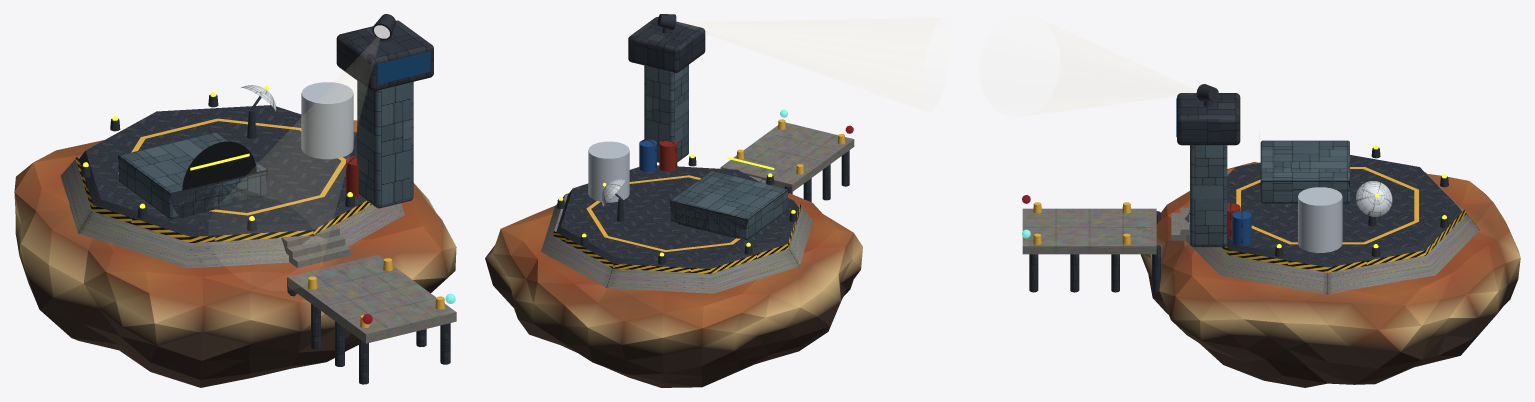
Rendered from garrison-L75.glb.
3 renders of one model, left to right at view 1: azimuth 30°, elevation 25°; view 2: azimuth 150°, elevation 25°; view 3: azimuth 270°, elevation 25°, orthographic. The views are drawn at different scales.
Parts seen in each view (by area): view 1: object 1, object 4, object 25, object 2, object 49, object 38, object 50, object 48, object 40, object 3, object 39, object 5 (+10 smaller); view 2: object 1, object 4, object 2, object 38, object 25, object 49, object 50, object 48, object 39, object 3, object 5, object 42 (+1 smaller); view 3: object 1, object 4, object 2, object 25, object 38, object 49, object 50, object 48, object 3, anim:rot, object 5, object 45.
Part boxes in pixels (box(x1,y1,x2,y2)): object 1: box(14, 120, 456, 387); object 4: box(79, 105, 366, 236); object 25: box(287, 255, 456, 343); object 2: box(60, 156, 404, 267); object 49: box(357, 81, 413, 208); object 38: box(118, 132, 267, 219); object 50: box(336, 20, 433, 91); object 48: box(301, 82, 353, 159); object 40: box(182, 141, 256, 190); object 3: box(75, 154, 371, 242); object 39: box(118, 155, 267, 217); object 5: box(118, 118, 345, 215); object 1: box(485, 193, 862, 387); object 4: box(556, 165, 798, 268); object 2: box(541, 193, 813, 293); object 38: box(670, 171, 787, 239); object 25: box(720, 122, 854, 191); object 49: box(644, 65, 688, 162); object 50: box(628, 17, 705, 72); object 48: box(588, 141, 629, 202); object 39: box(670, 189, 788, 238); object 3: box(553, 203, 801, 273); object 5: box(586, 175, 740, 251); object 42: box(659, 140, 677, 171); object 1: box(1140, 162, 1520, 387); object 4: box(1226, 155, 1462, 267); object 2: box(1185, 172, 1479, 294); object 25: box(1022, 208, 1156, 254); object 38: box(1260, 140, 1349, 203); object 49: box(1190, 145, 1227, 247); object 50: box(1177, 93, 1240, 145); object 48: box(1298, 187, 1342, 252); object 3: box(1189, 209, 1466, 272); anim:rot: box(1356, 181, 1392, 216); object 5: box(1236, 167, 1418, 244); object 45: box(1232, 211, 1251, 245).
Bounding box in the file's own units: 5.21 × 4.47 × 7.28.
22 materials, 7 textured.
